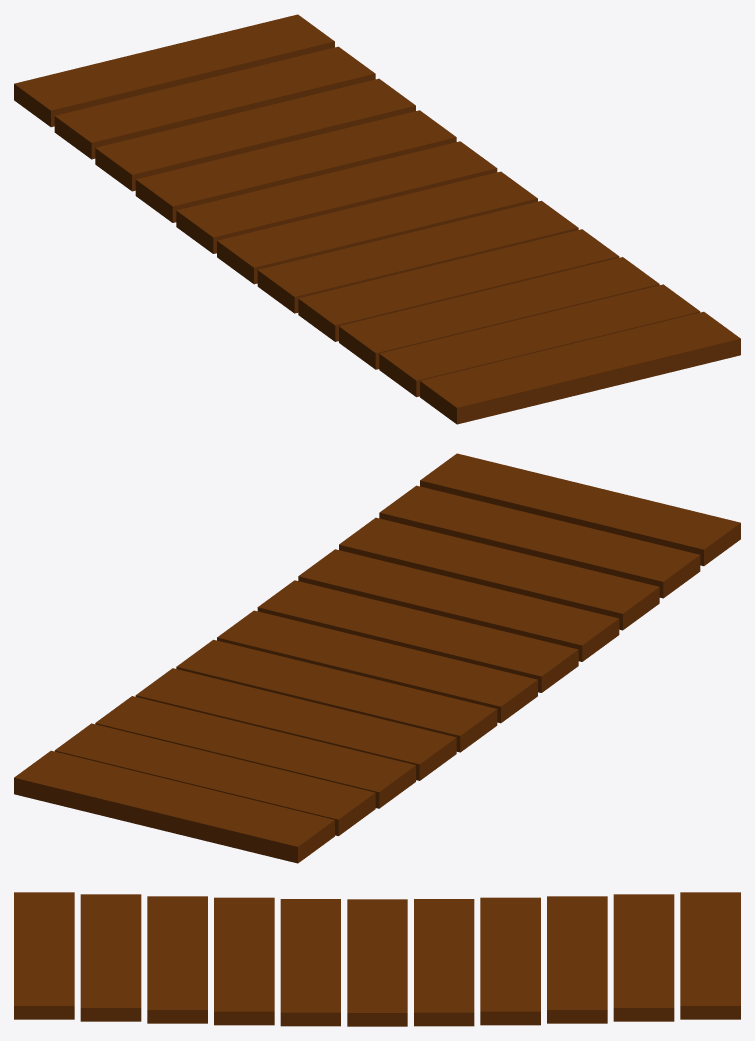
Rendered from Bridge.fbx.
The picture shows the model from 3 angles, top to bottom: view 1: azimuth 30°, elevation 25°; view 2: azimuth 150°, elevation 25°; view 3: azimuth 270°, elevation 25°; orthographic projection. The views are drawn at different scales.
Parts seen in each view (by area): view 1: Bridge; view 2: Bridge; view 3: Bridge.
Boxes of the visible parts, <box> form: Bridge: <box>14,14,740,424</box>; Bridge: <box>14,453,740,863</box>; Bridge: <box>14,892,740,1026</box>.
Size of the model in its own units: 888 by 74.84 by 2400.
